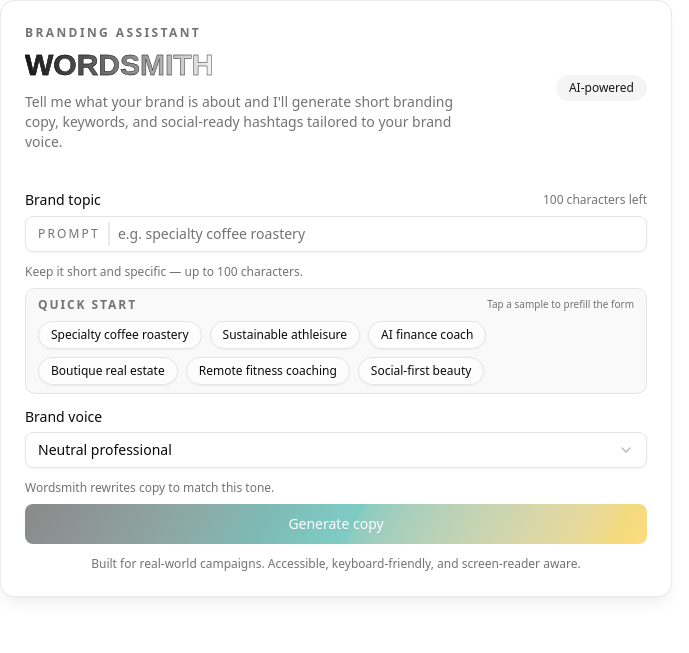
Test: WordsmithCard Integration › handles server error
The width and height of the screenshot is (689, 653).
Click the button "Specialty coffee roastery" at (120, 334), box [38, 320, 202, 348]
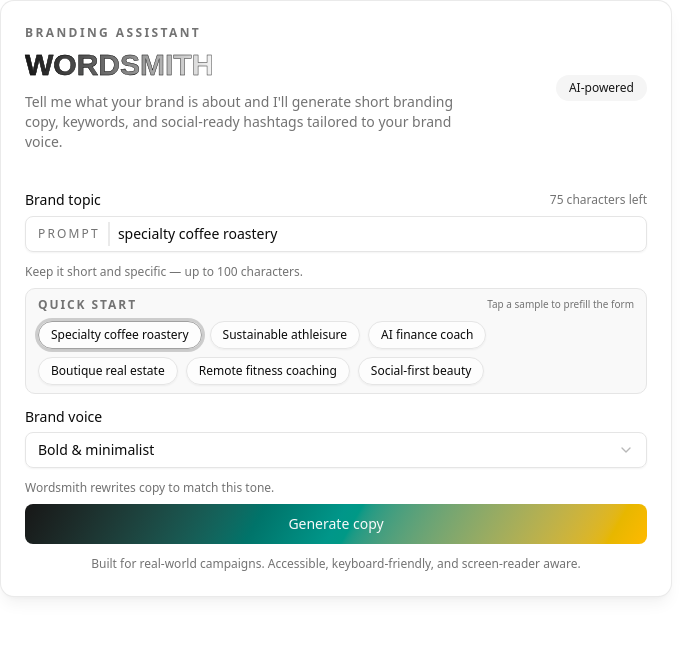
Click the button "Generate copy" at (336, 524), box [25, 504, 647, 544]
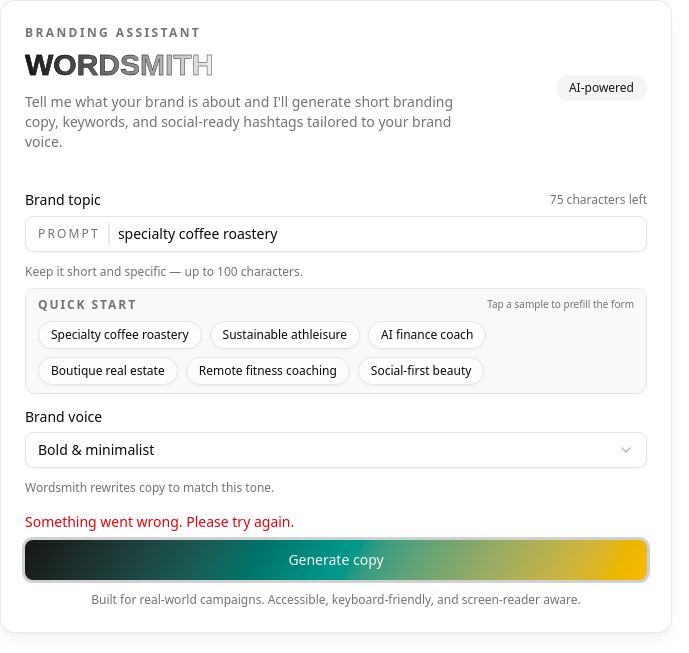
Check: the text "Something went wrong. Please try again." is shown, box [25, 512, 294, 530]
